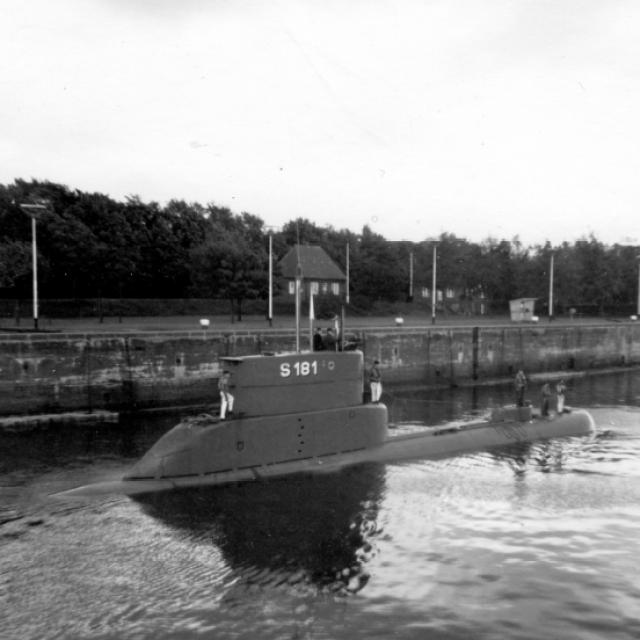submarine: (58, 350, 608, 497)
